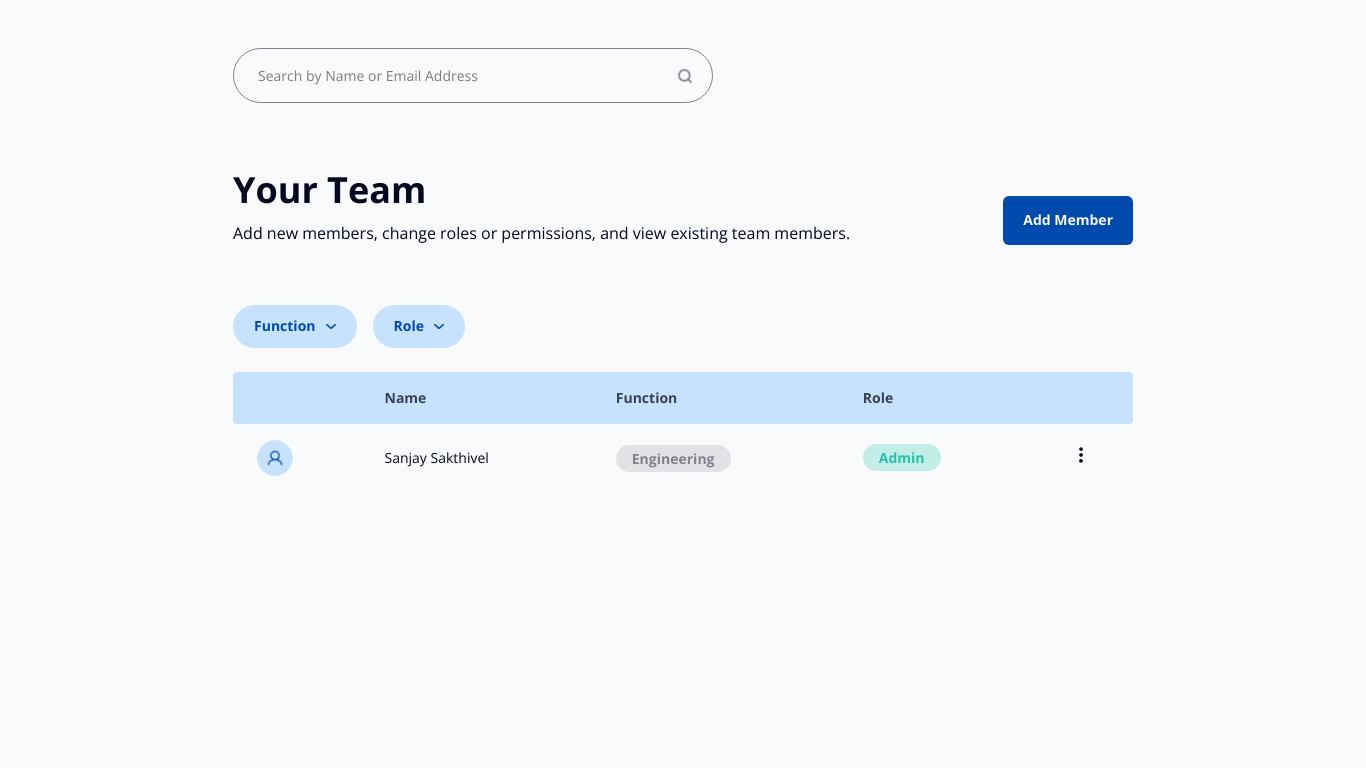
Test case: Team Management App › clicking Edit opens dialog with prefilled values
Expected: the text "Sanjay Sakthivel" is shown, [360,424,592,492]
Step 1. Click the button with alt text "trigger" → (1081, 455), box [1071,445,1091,465]
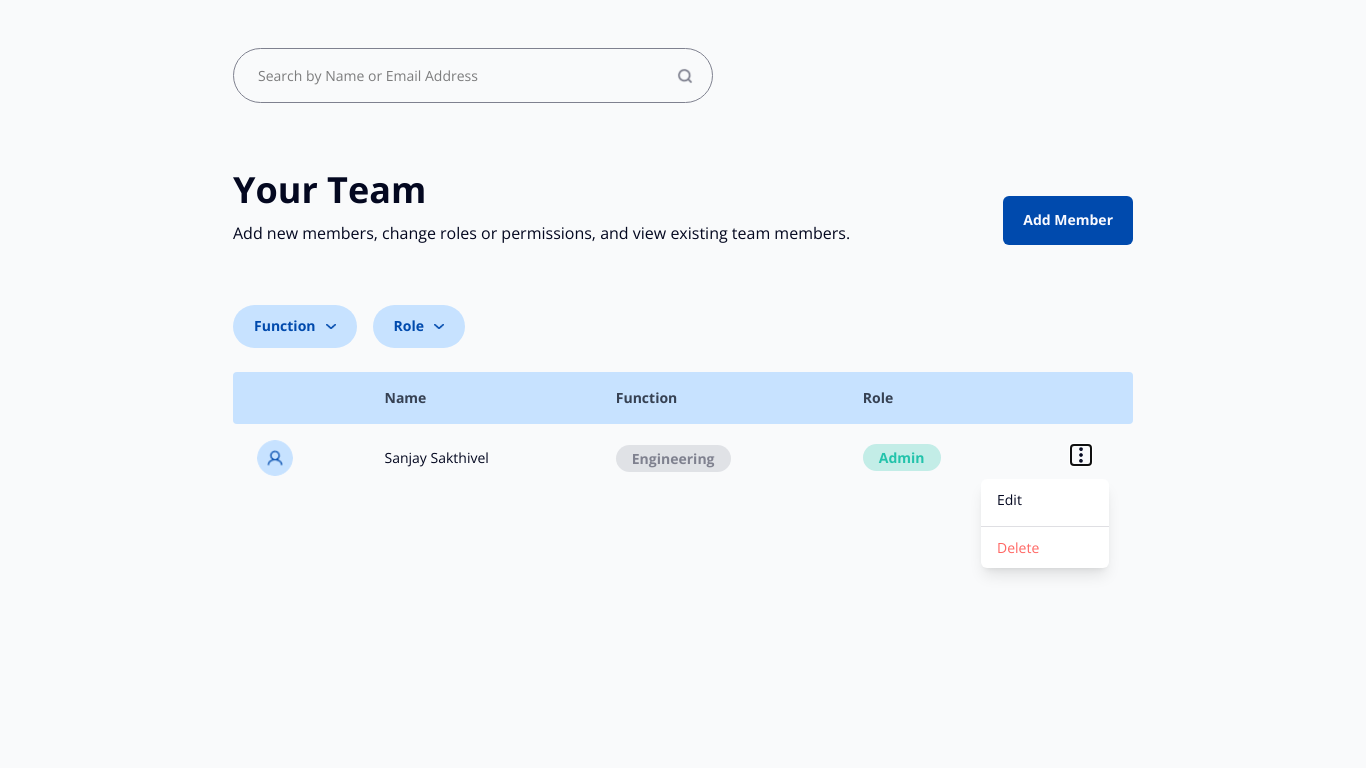
Step 2. Click the button "Edit" → (1045, 499), box [981,483,1109,516]
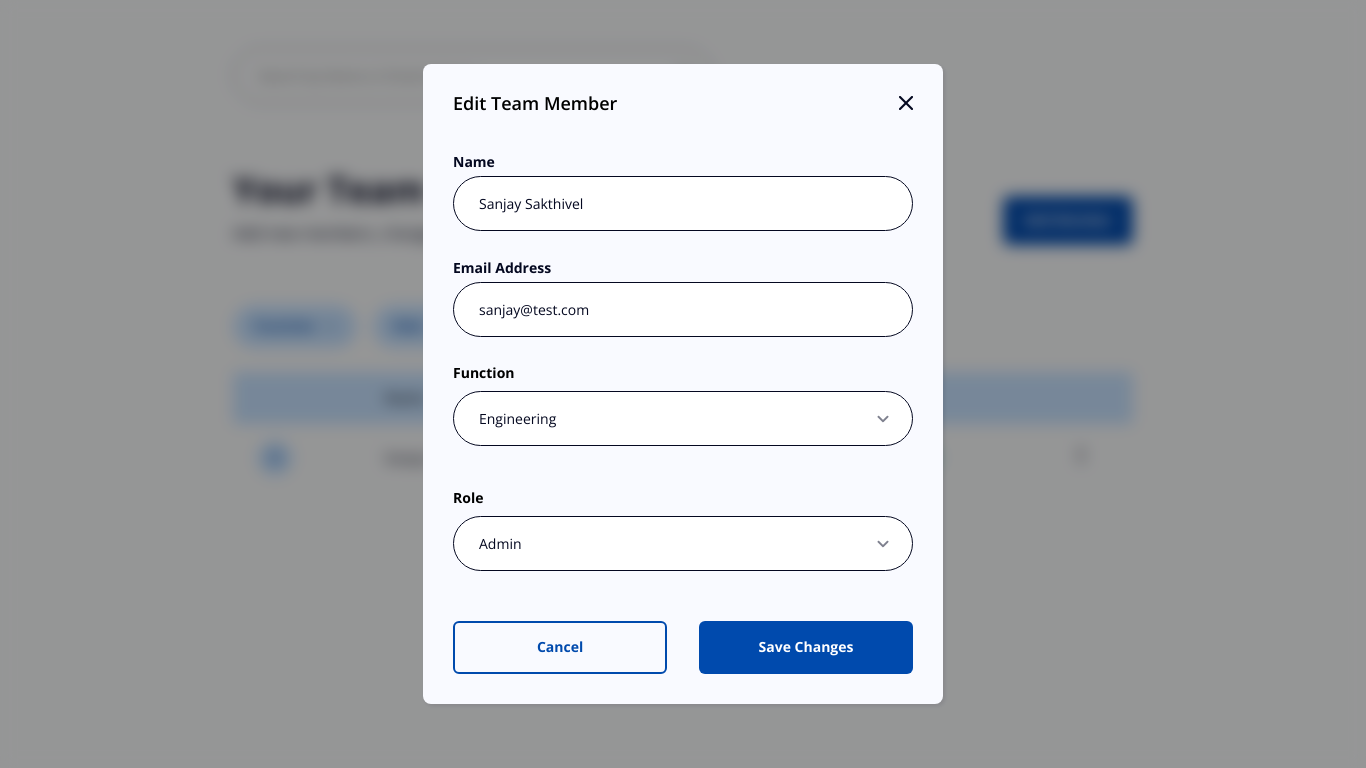
Now the field showing "Sanjay Sakthivel" is shown, box [453,176,913,231]
